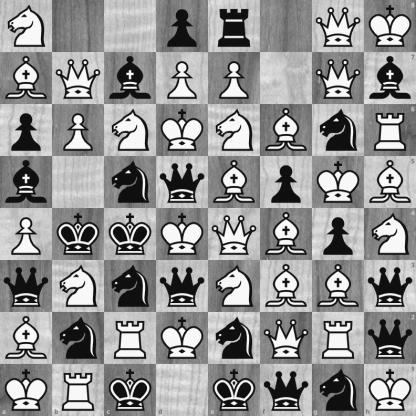B: (364, 156, 416, 209), (1, 53, 52, 104), (1, 313, 52, 364), (209, 157, 260, 208), (261, 105, 312, 156), (261, 209, 312, 260), (261, 261, 312, 312), (313, 261, 364, 312)
K: (0, 364, 52, 416), (364, 0, 416, 52), (364, 364, 416, 416), (157, 105, 208, 156), (157, 209, 208, 260), (157, 313, 208, 364), (313, 157, 364, 208)
N: (364, 209, 416, 260), (1, 1, 52, 52), (53, 261, 104, 312), (105, 105, 156, 156), (209, 105, 260, 156), (209, 261, 260, 312)
P: (1, 209, 52, 260), (53, 105, 104, 156), (157, 53, 208, 104), (209, 53, 260, 104)
Q: (53, 53, 104, 104), (209, 209, 260, 260), (261, 313, 312, 364), (313, 1, 364, 52), (313, 53, 364, 104)
R: (52, 364, 104, 416), (364, 104, 416, 156), (105, 313, 156, 364), (313, 313, 364, 364)
b: (364, 52, 416, 104), (1, 157, 52, 208), (105, 53, 156, 104)
board: (0, 0, 415, 415)
k: (104, 364, 156, 416), (209, 364, 260, 416), (53, 209, 104, 260), (105, 209, 156, 260)
n: (312, 364, 364, 416), (53, 313, 104, 364), (105, 157, 156, 208), (105, 261, 156, 312), (209, 313, 260, 364), (313, 105, 364, 156)
p: (1, 105, 52, 156), (157, 1, 208, 52), (261, 157, 312, 208), (313, 209, 364, 260)
q: (260, 364, 312, 416), (364, 260, 416, 312), (364, 312, 416, 364), (1, 261, 52, 312), (157, 157, 208, 208), (157, 261, 208, 312)
r: (209, 1, 260, 52)
